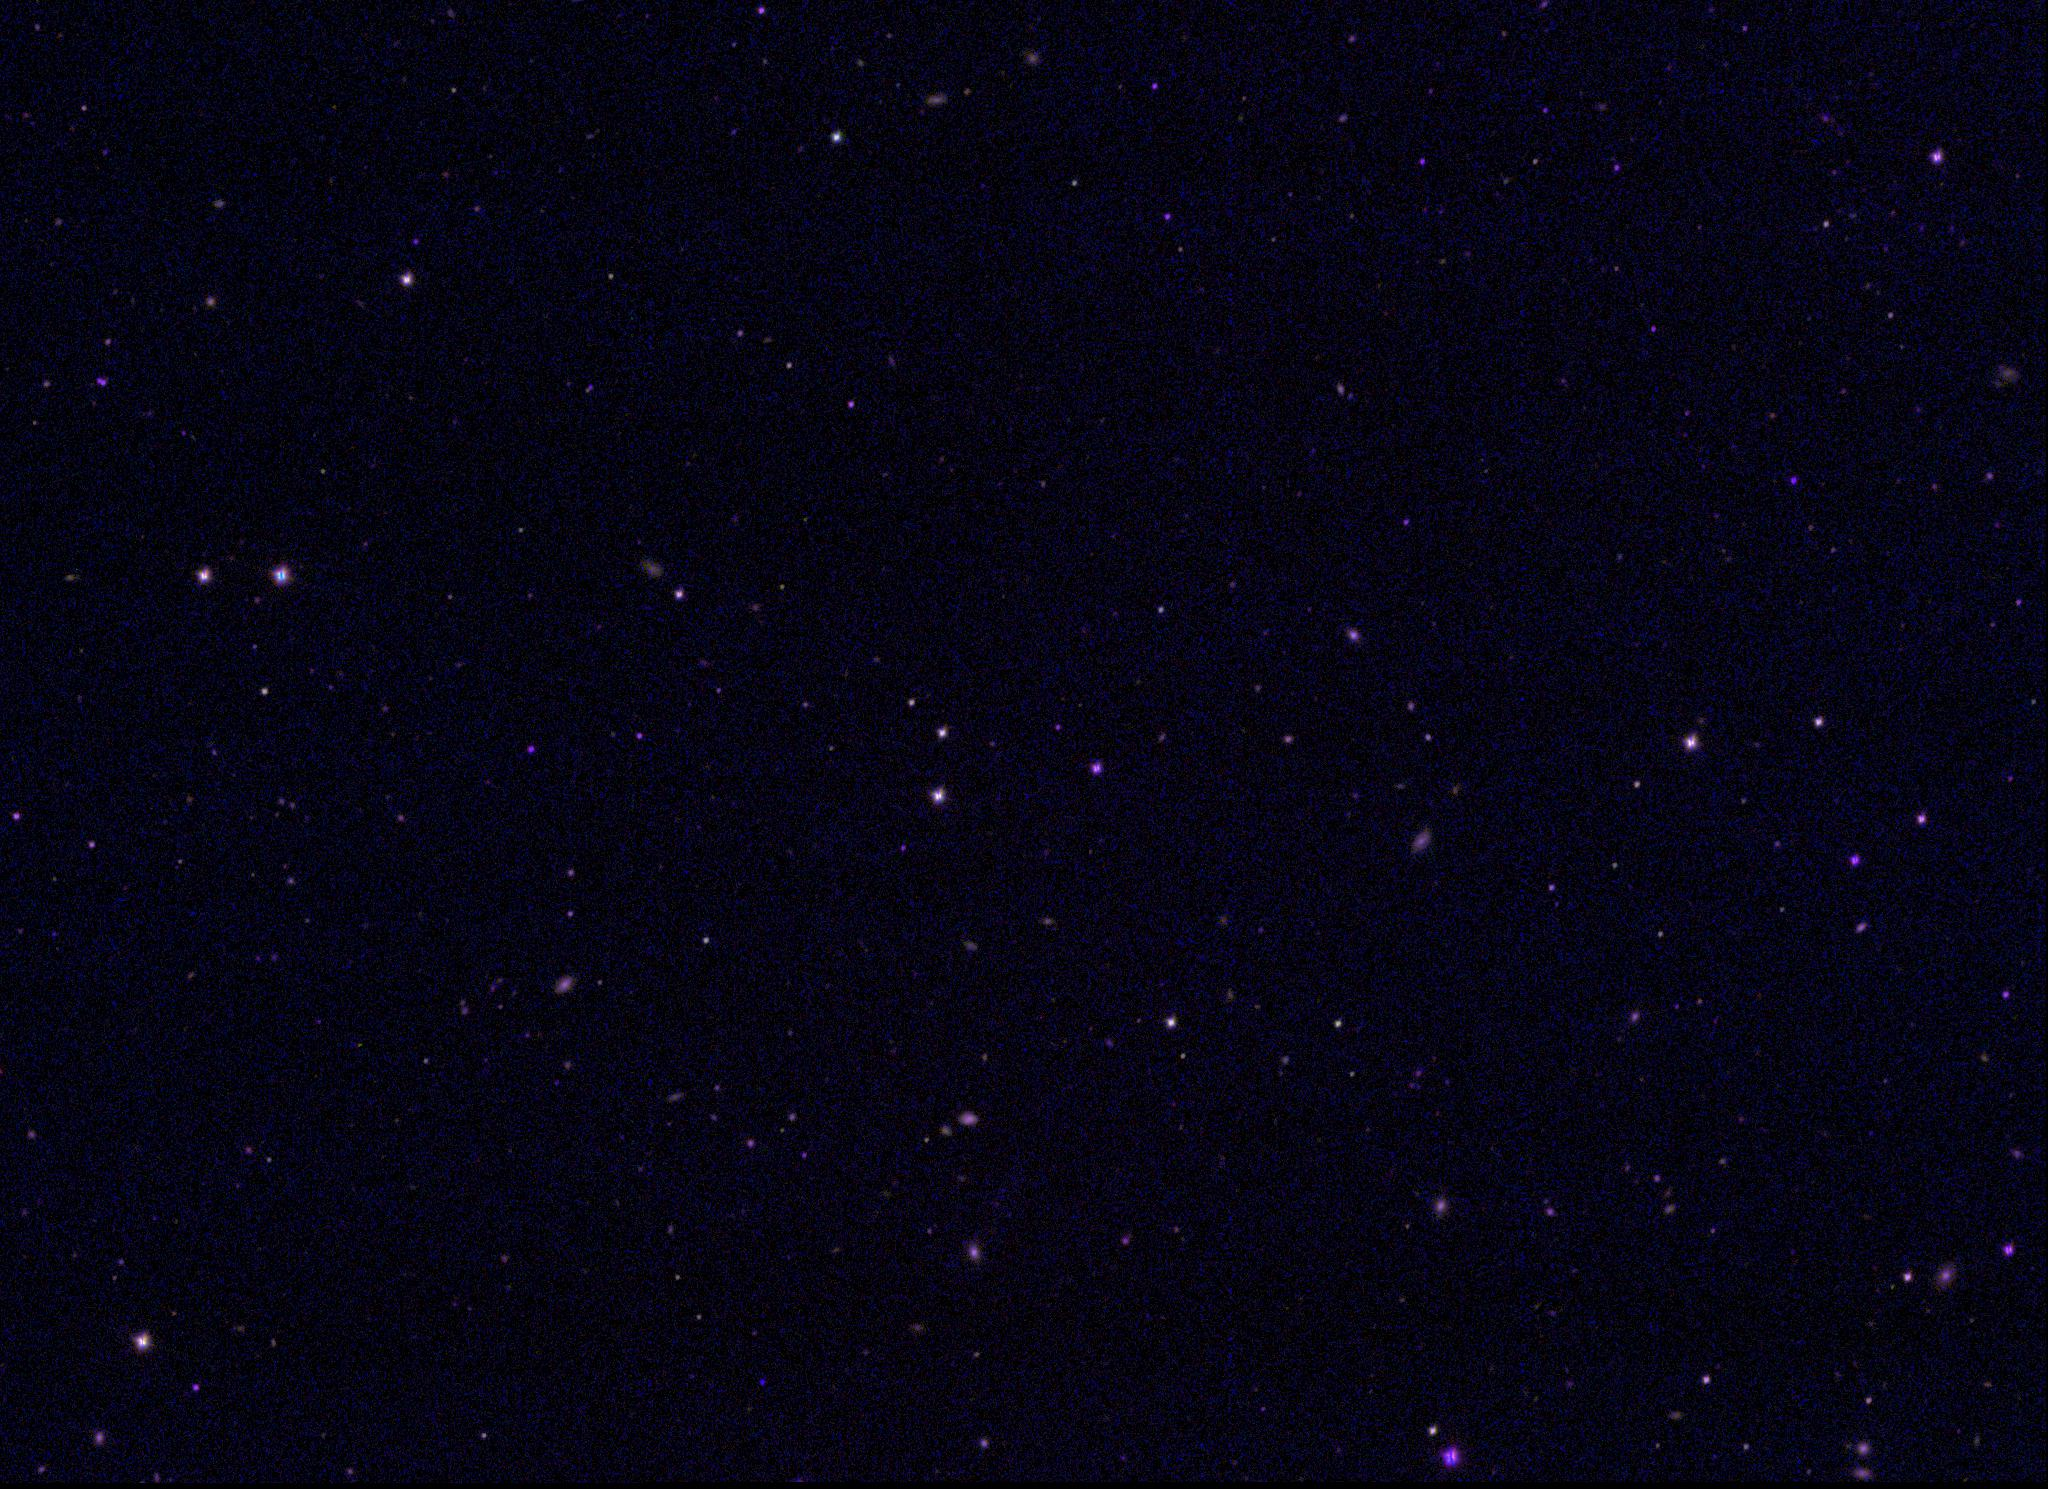L: (757, 1374, 771, 1389)
